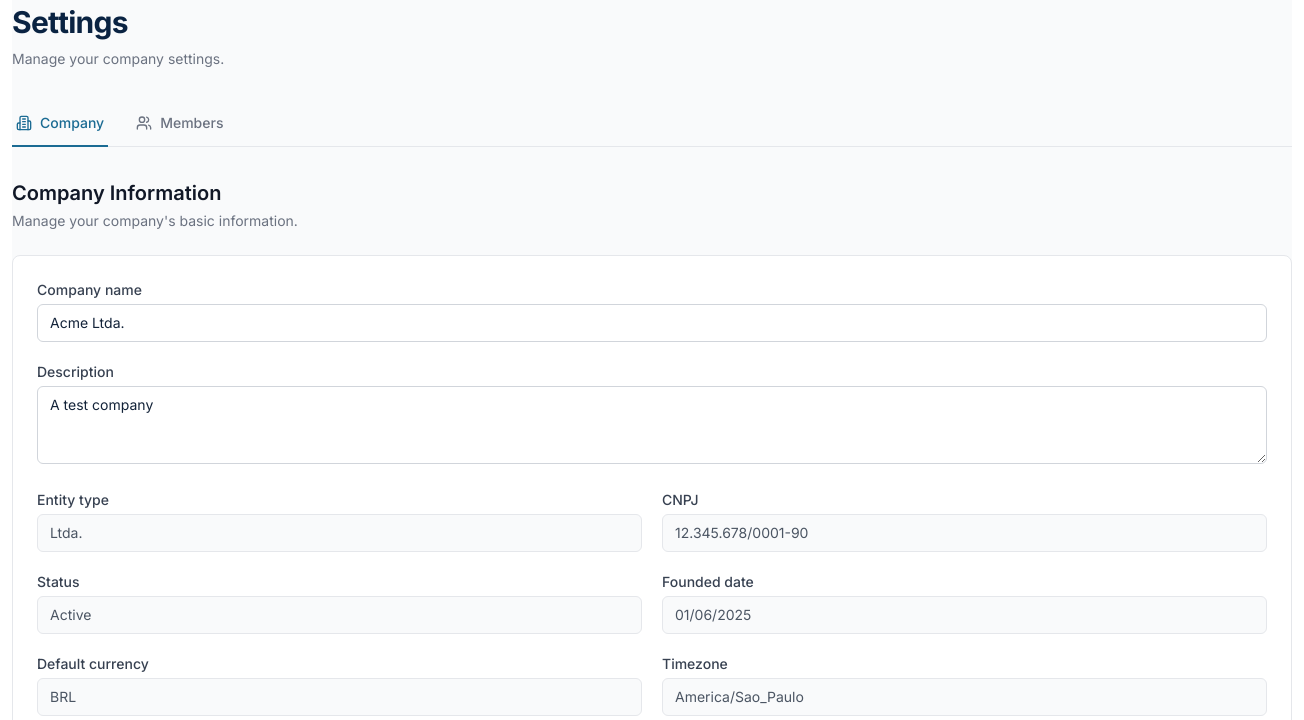
Test case: SettingsPage › switches to Members tab on click
Click the button "Members". click: (180, 124)
box: [132,101,228,147]
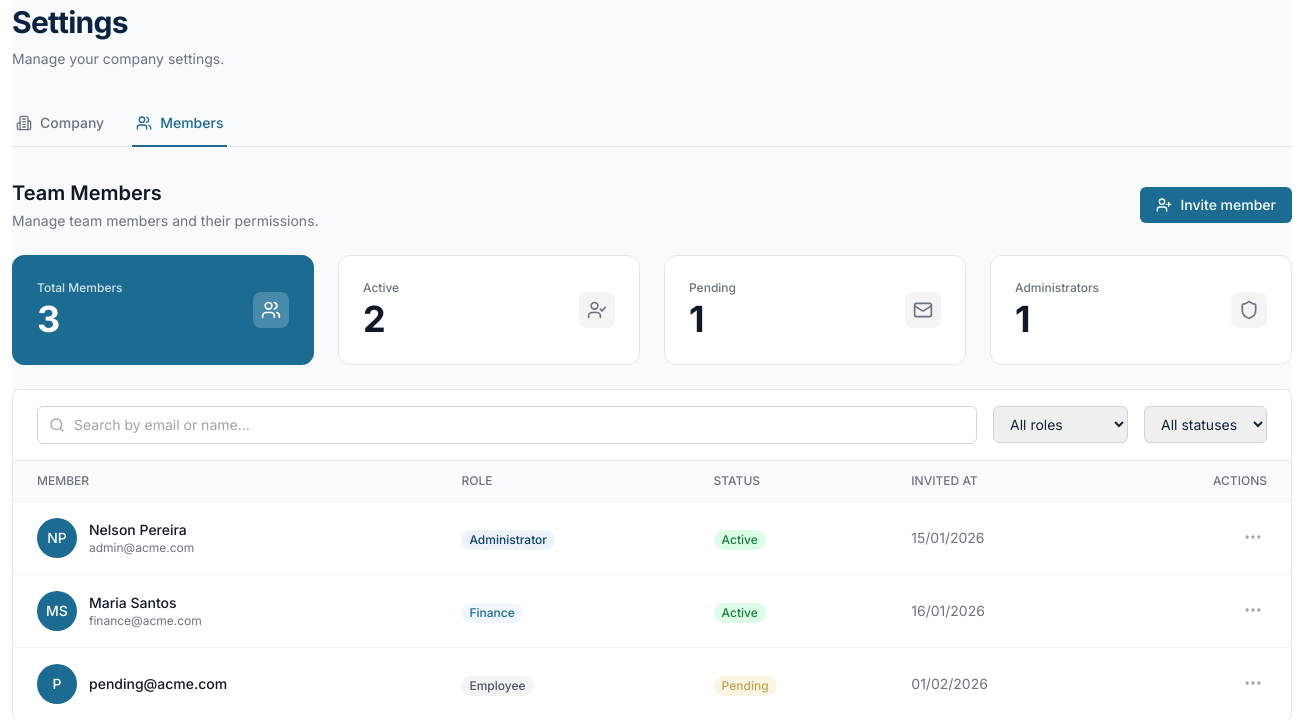
Expected: the heading "Team Members" is shown, [12,181,162,205]
Expected: the button "Invite member" is shown, [1140,187,1292,223]
